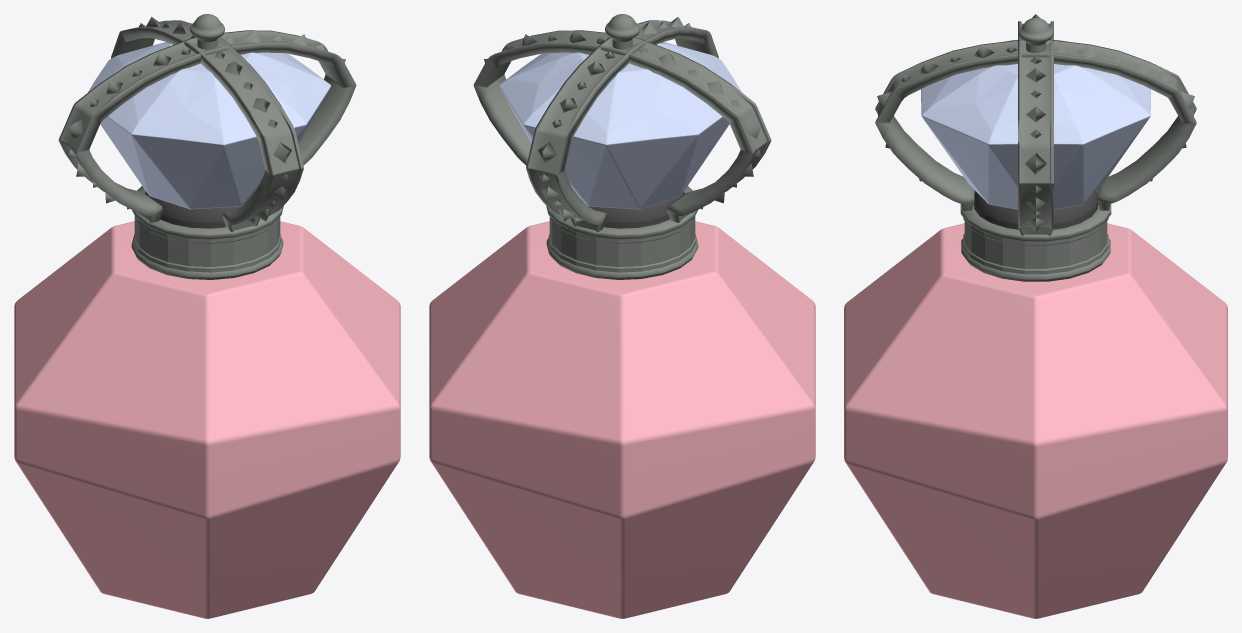
File: parfum.fbx
3 views of the same model, side by side, from view 1: azimuth 30°, elevation 25°; view 2: azimuth 150°, elevation 25°; view 3: azimuth 270°, elevation 25° (orthographic).
Visible parts, largest first — view 1: uploads_files_2732938_thatMoment; view 2: uploads_files_2732938_thatMoment; view 3: uploads_files_2732938_thatMoment.
Boxes of the visible parts, box(x1,y1,x2,y2) form: uploads_files_2732938_thatMoment: box(14, 14, 400, 618); uploads_files_2732938_thatMoment: box(429, 14, 815, 618); uploads_files_2732938_thatMoment: box(844, 14, 1227, 618).
Size of the model in its own units: 11.7 by 16.08 by 10.17.
